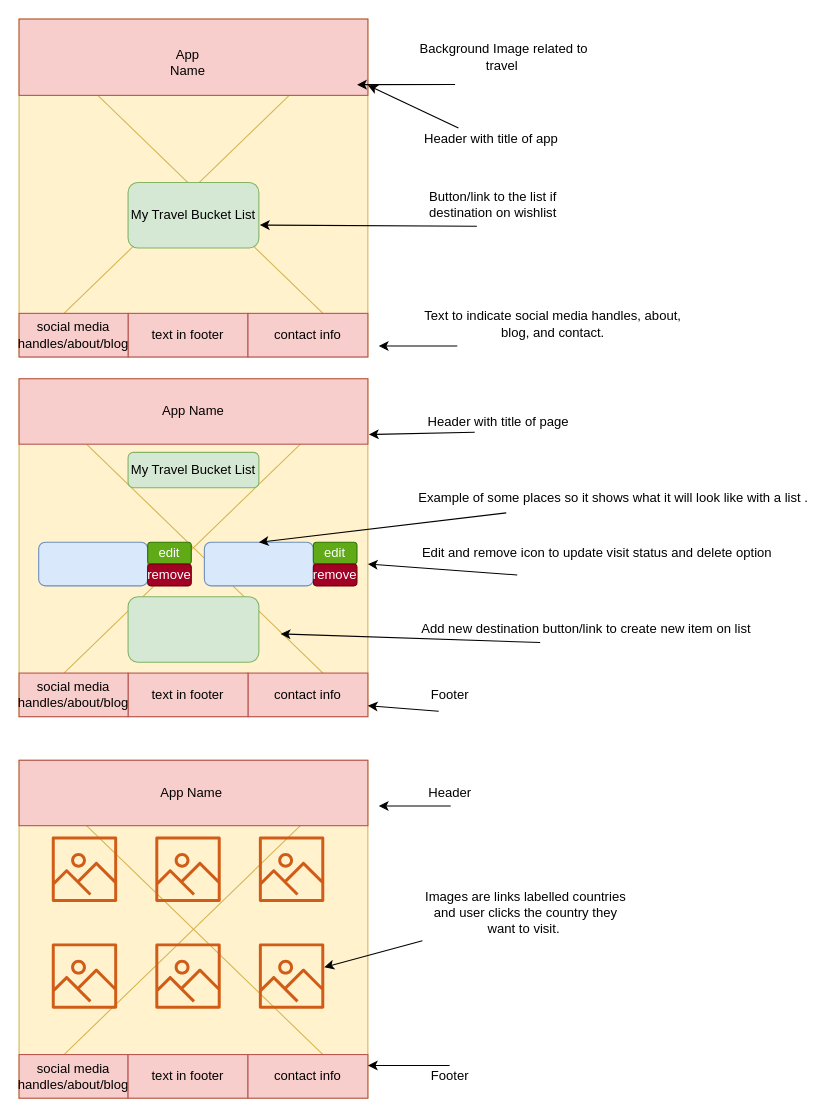
Some shapes in this 834 by 1117 pixel diagram are drawn without their labels. Here are the shapes that lost their labels. From the top down, the centre of each, then its label:
(x=93, y=563): Frankfurt, Germany, visited = no
(x=258, y=563): Paris, France, visited = no
(x=193, y=629): Add new destination
